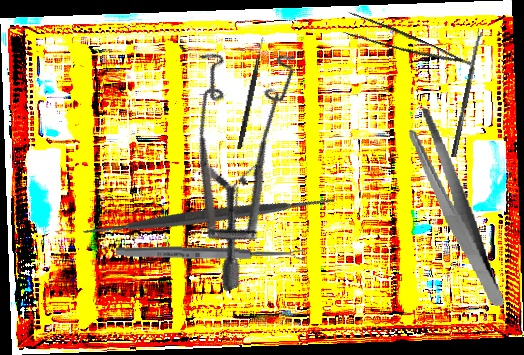Dressing Forceps: (405, 99, 506, 317)
Hook Surgical: (237, 36, 265, 150)
Spatula Surgical: (72, 79, 346, 354)
Speculum: (136, 22, 369, 293)
Surgical Spoon: (450, 28, 485, 158), (115, 245, 306, 262)
Tissue Forceps: (338, 7, 473, 86)
